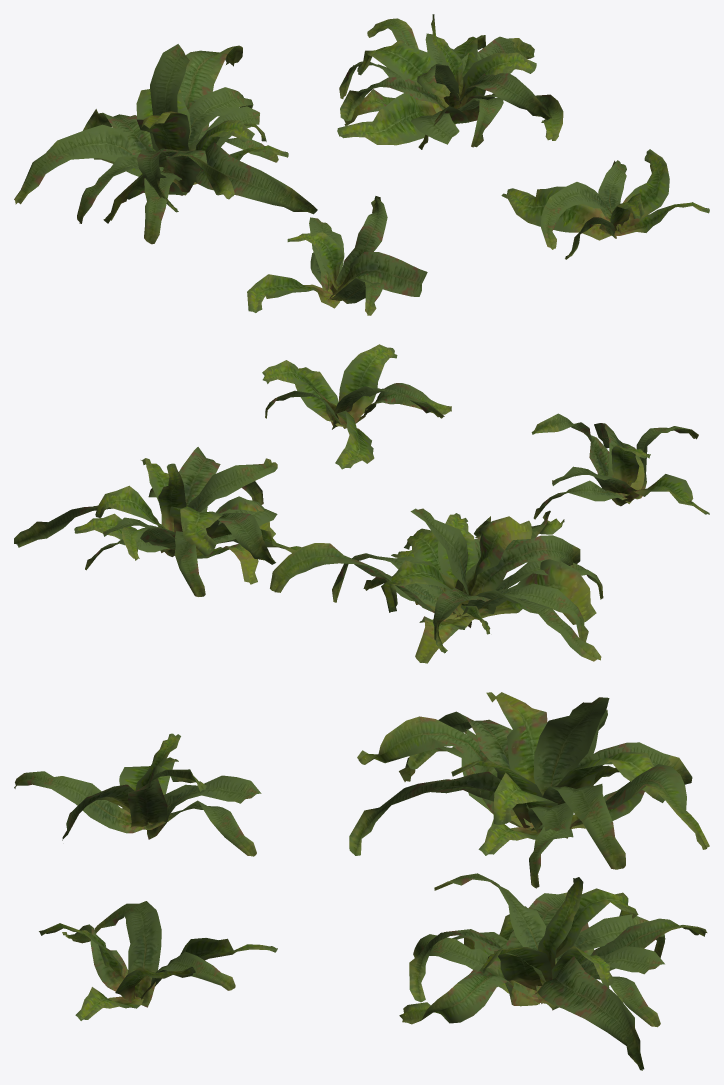
The model's file is fern_02.glb.
3 renders of one model, top to bottom at view 1: azimuth 30°, elevation 25°; view 2: azimuth 150°, elevation 25°; view 3: azimuth 270°, elevation 25°, orthographic. The views are drawn at different scales.
Visible parts, largest first — view 1: fern_02_b, fern_02_c, fern_02_d, fern_02_a; view 2: fern_02_b, fern_02_c, fern_02_d, fern_02_a; view 3: fern_02_b, fern_02_c, fern_02_a, fern_02_d.
Part boxes in pixels (box(x1,y1,x2,y2)): fern_02_b: box(14, 44, 317, 244); fern_02_c: box(337, 14, 563, 149); fern_02_d: box(501, 149, 709, 259); fern_02_a: box(247, 196, 427, 315); fern_02_b: box(270, 508, 603, 663); fern_02_c: box(14, 447, 301, 596); fern_02_d: box(262, 344, 451, 469); fern_02_a: box(531, 413, 709, 519); fern_02_b: box(349, 692, 709, 888); fern_02_c: box(399, 873, 707, 1070); fern_02_a: box(14, 733, 261, 856); fern_02_d: box(39, 901, 277, 1020).
Size of the model in its own units: 1.97 by 0.4277 by 1.72.
Materials: 1 (1 with a texture image).
